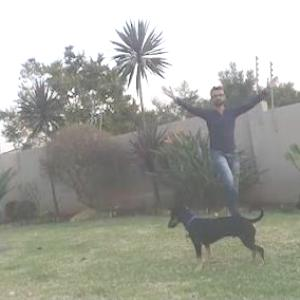takeoff: (145, 82, 260, 215)
